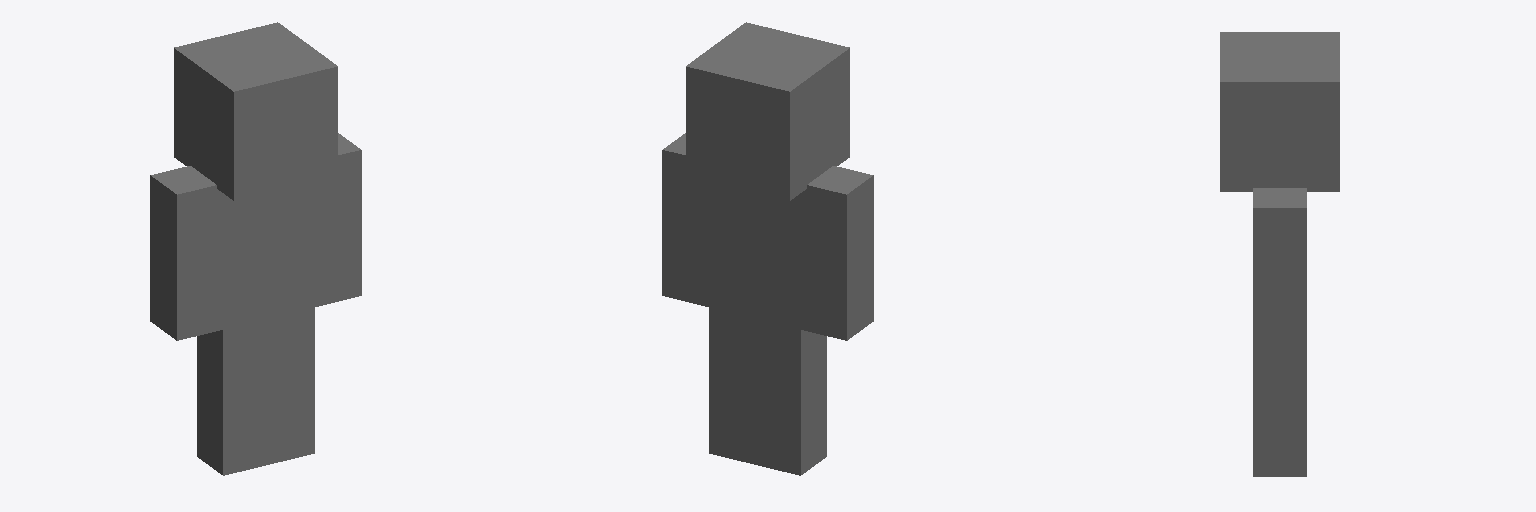
File: mcplayer.obj
3 renders of one model, left to right at view 1: azimuth 30°, elevation 25°; view 2: azimuth 150°, elevation 25°; view 3: azimuth 270°, elevation 25°, orthographic.
Parts seen in each view (by area): view 1: Player_Cube_Player; view 2: Player_Cube_Player; view 3: Player_Cube_Player.
Part boxes in pixels (bbox=[...]): Player_Cube_Player: bbox=[150, 22, 361, 475]; Player_Cube_Player: bbox=[662, 22, 873, 475]; Player_Cube_Player: bbox=[1220, 32, 1339, 476].
Size of the model in its own units: 1.32 by 2.72 by 0.7473.